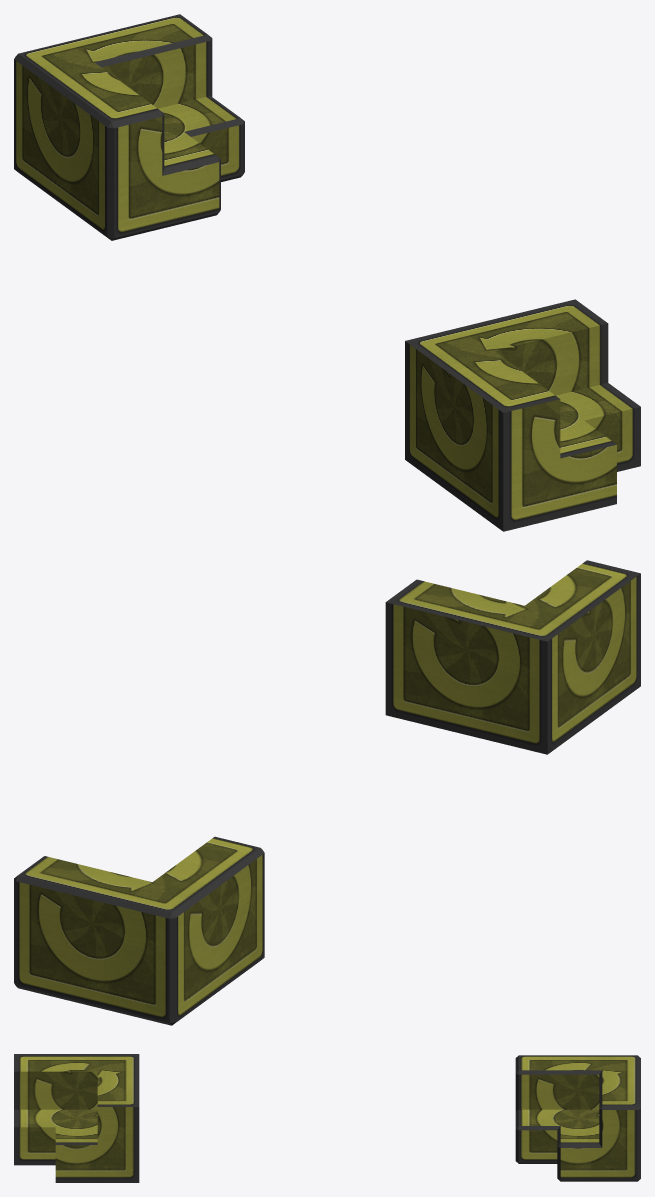
File: insetStep3.insideCorner.fbx
3 views of the same model, one above another, from view 1: azimuth 30°, elevation 25°; view 2: azimuth 150°, elevation 25°; view 3: azimuth 270°, elevation 25° (orthographic). The views are drawn at different scales.
Parts seen in each view (by area): view 1: MESH insetStep3.insideCorner, MESH insetStep3.insideCorner.c; view 2: MESH insetStep3.insideCorner, MESH insetStep3.insideCorner.c; view 3: MESH insetStep3.insideCorner, MESH insetStep3.insideCorner.c.
Part boxes in pixels (x1,y1,x2,y2): MESH insetStep3.insideCorner: [405, 299, 640, 531]; MESH insetStep3.insideCorner.c: [14, 14, 244, 240]; MESH insetStep3.insideCorner: [385, 560, 640, 754]; MESH insetStep3.insideCorner.c: [14, 836, 264, 1025]; MESH insetStep3.insideCorner: [14, 1054, 139, 1182]; MESH insetStep3.insideCorner.c: [515, 1055, 640, 1181].
Size of the model in its own units: 100 by 66.67 by 500.
